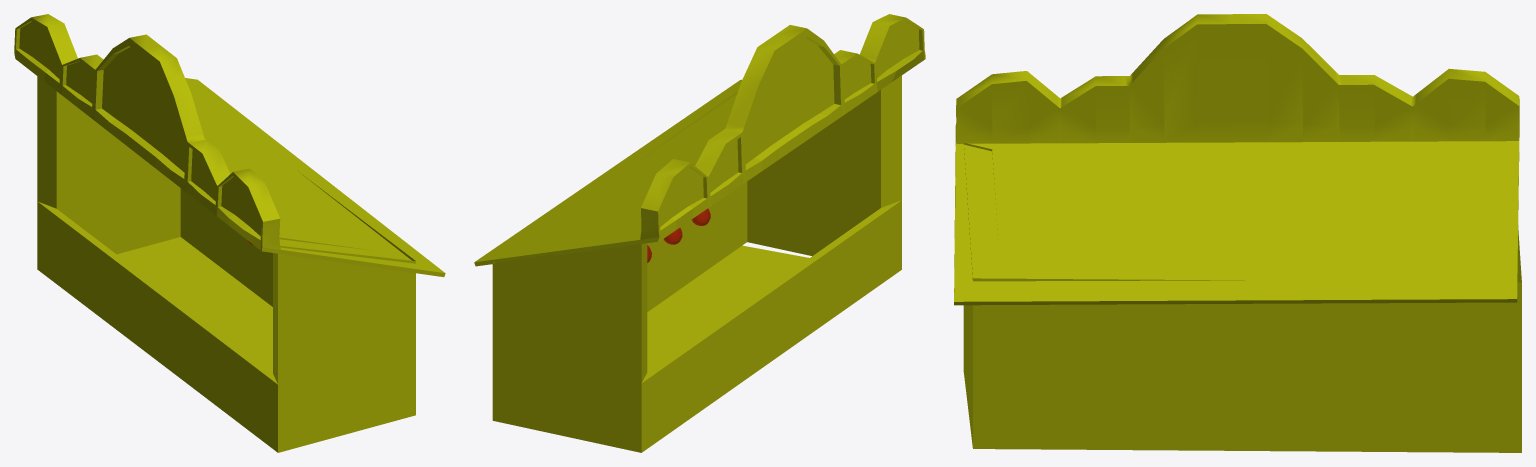
Rendered from Balloon Game.fbx.
The picture shows the model from 3 angles, left to right: view 1: azimuth 30°, elevation 25°; view 2: azimuth 150°, elevation 25°; view 3: azimuth 270°, elevation 25°; orthographic projection. The views are drawn at different scales.
Parts seen in each view (by area): view 1: Building, Roof4; view 2: Building, Roof4; view 3: Roof4, Building.
Boxes of the visible parts, x1,y1,x2,y2 form: Building: [37, 76, 415, 452]; Roof4: [14, 14, 445, 276]; Building: [492, 75, 901, 452]; Roof4: [474, 14, 925, 266]; Roof4: [954, 14, 1519, 305]; Building: [963, 143, 1521, 452].
Size of the model in its own units: 3.44 by 5.42 by 7.92.
